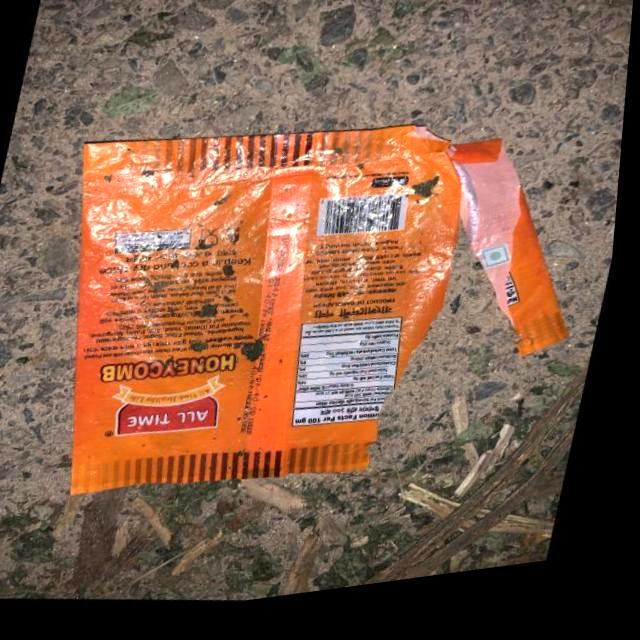packet: (50, 89, 491, 536)
